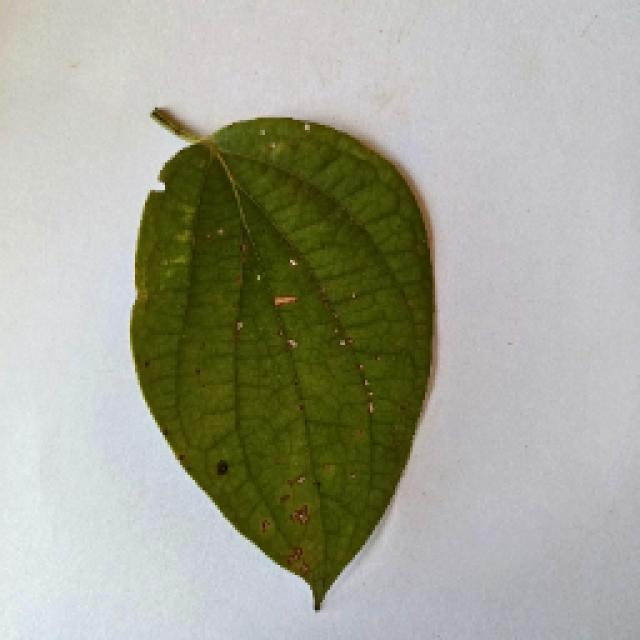pollu-disease: (128, 112, 432, 610)
